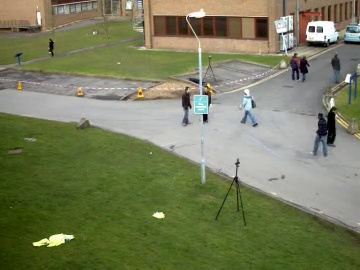person: (180, 85, 196, 125), (180, 84, 195, 125), (179, 85, 194, 124)
